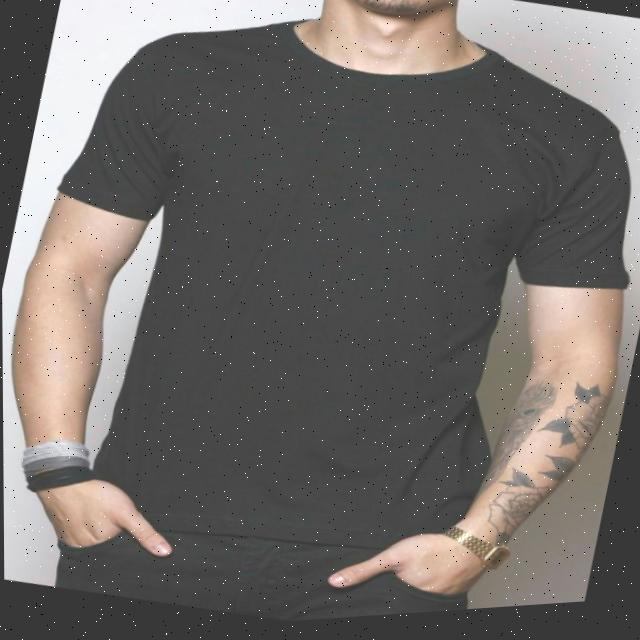Upper-Body: (56, 25, 628, 556)
